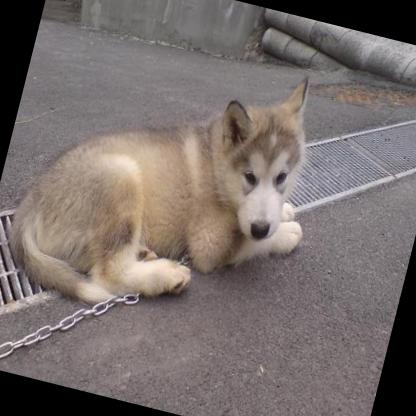malamute: (0, 11, 341, 354)
